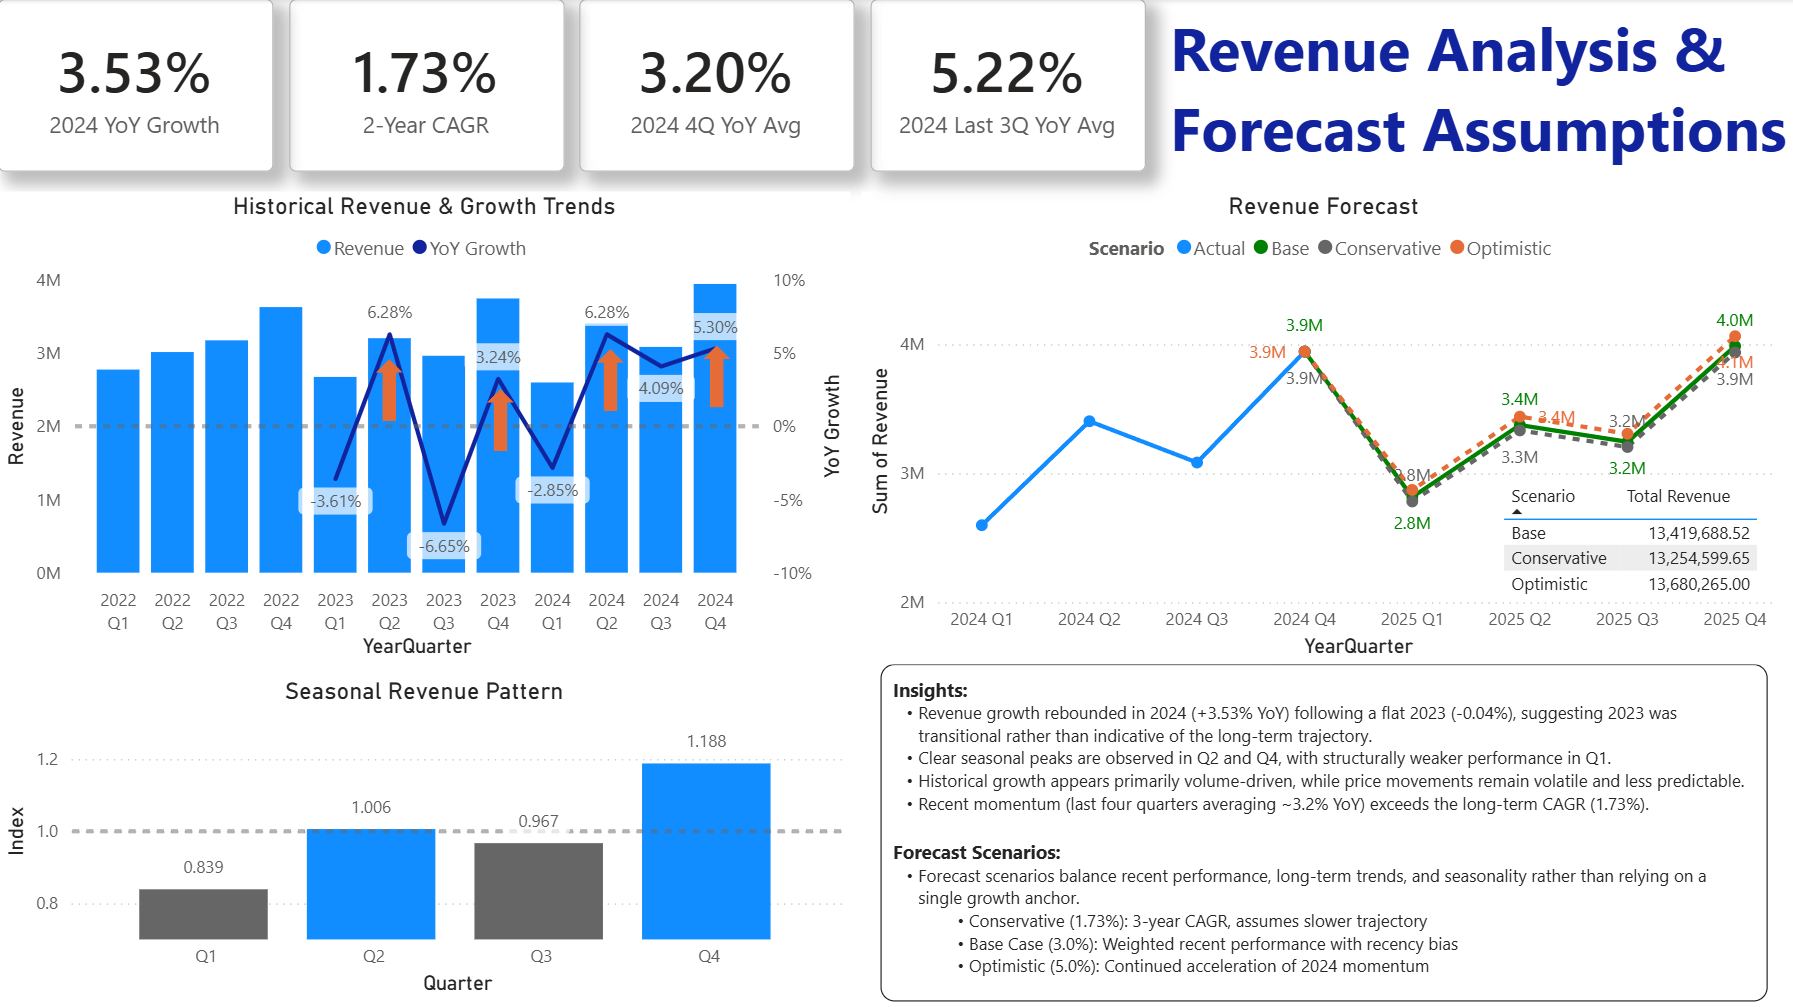

This screenshot's page, from the dashboard's own definition file:
{"tool":"powerbi","page":{"name":"Revenue Analysis & Forecast","canvas":[1280,720],"ordinal":4},"visuals":[{"type":"textbox","box":[825.7,0,454.5,124],"z":0},{"type":"lineStackedColumnComboChart","title":"Seasonal Revenue Pattern","fields":{"Category":["Seasonal Indices.Quarter"],"Y":["Sum(Seasonal Indices.Index)"]},"box":[0,480.2,604.2,230.3],"z":1000},{"type":"textbox","box":[625.5,471.3,629,239.2],"z":2000},{"type":"cardVisual","fields":{"Data":["public vw_revenue_summary.2024 YoY Growth"]},"box":[0,0,194.9,122.3],"z":3000},{"type":"cardVisual","fields":{"Data":["public vw_revenue_summary.CAGR"]},"box":[206.1,0,194.9,122.3],"z":4000},{"type":"cardVisual","fields":{"Data":["public vw_revenue_summary.Last 4Q Avg Growth"]},"box":[412.3,0,194.9,122.3],"z":5000},{"type":"shape","box":[562.6,255.2,19.5,44.3],"z":6000},{"type":"lineStackedColumnComboChart","title":"Historical Revenue & Growth Trends","fields":{"Category":["public vw_revenue_summary.YearQuarter"],"Y":["Sum(public vw_revenue_summary.actual_revenue)"],"Y2":["public vw_revenue_summary.% Act_Rev_yoy"]},"box":[0,136.4,604.2,334.9],"z":7000},{"type":"shape","box":[346.4,276.4,19.5,44.3],"z":8000},{"type":"shape","box":[267.6,255.2,19.5,44.3],"z":9000},{"type":"shape","box":[424.4,248.1,19.5,44.3],"z":10000},{"type":"shape","box":[499.7,245.4,19.5,44.3],"z":11000},{"type":"lineChart","title":"Revenue Forecast","fields":{"Category":["Forecast import.YearQuarter"],"Y":["Sum(Forecast import.Revenue)"],"Series":["Forecast import.Scenario"]},"box":[612.2,136.4,654.7,334.9],"z":12000},{"type":"tableEx","fields":{"Values":["Forecast import.Scenario","Sum(Forecast import.Revenue)"]},"box":[1066.7,342.9,180.7,82.4],"z":13000},{"type":"cardVisual","fields":{"Data":["public vw_revenue_summary.2024 Last 3Q Avg Growth"]},"box":[618.4,0,194.9,122.3],"z":14000}]}

Visuals, with their boxes in screenshot pixels (x1, y1, x2, y2), scaled from the page's 1280x720 canvas onto the 1793x1007 screenshot:
textbox: 1157 0 1792 173
"Seasonal Revenue Pattern" lineStackedColumnComboChart: 0 672 846 994
textbox: 876 659 1757 994
cardVisual - public vw_revenue_summary.2024 YoY Growth: 0 0 273 171
cardVisual - public vw_revenue_summary.CAGR: 289 0 562 171
cardVisual - public vw_revenue_summary.Last 4Q Avg Growth: 578 0 851 171
shape: 788 357 815 419
"Historical Revenue & Growth Trends" lineStackedColumnComboChart: 0 191 846 659
shape: 485 387 513 449
shape: 375 357 402 419
shape: 594 347 622 409
shape: 700 343 727 405
"Revenue Forecast" lineChart: 858 191 1775 659
tableEx - Forecast import.Scenario x Sum(Forecast import.Revenue): 1494 480 1747 595
cardVisual - public vw_revenue_summary.2024 Last 3Q Avg Growth: 866 0 1139 171
